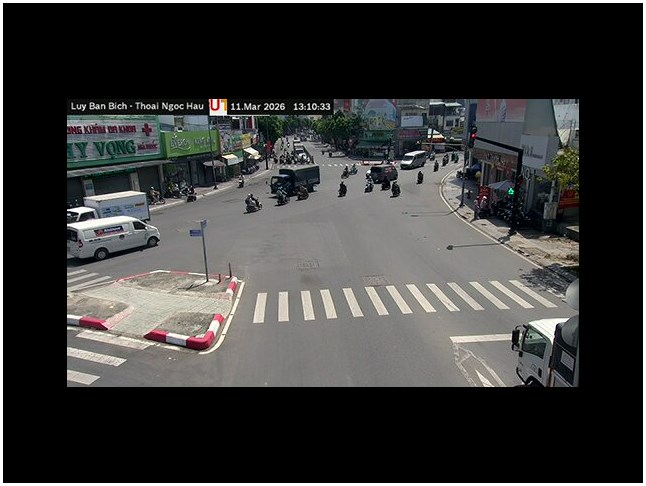car: (511, 314, 579, 386), (67, 215, 161, 262), (399, 150, 426, 170)
truck: (511, 314, 579, 386), (84, 190, 150, 223)
